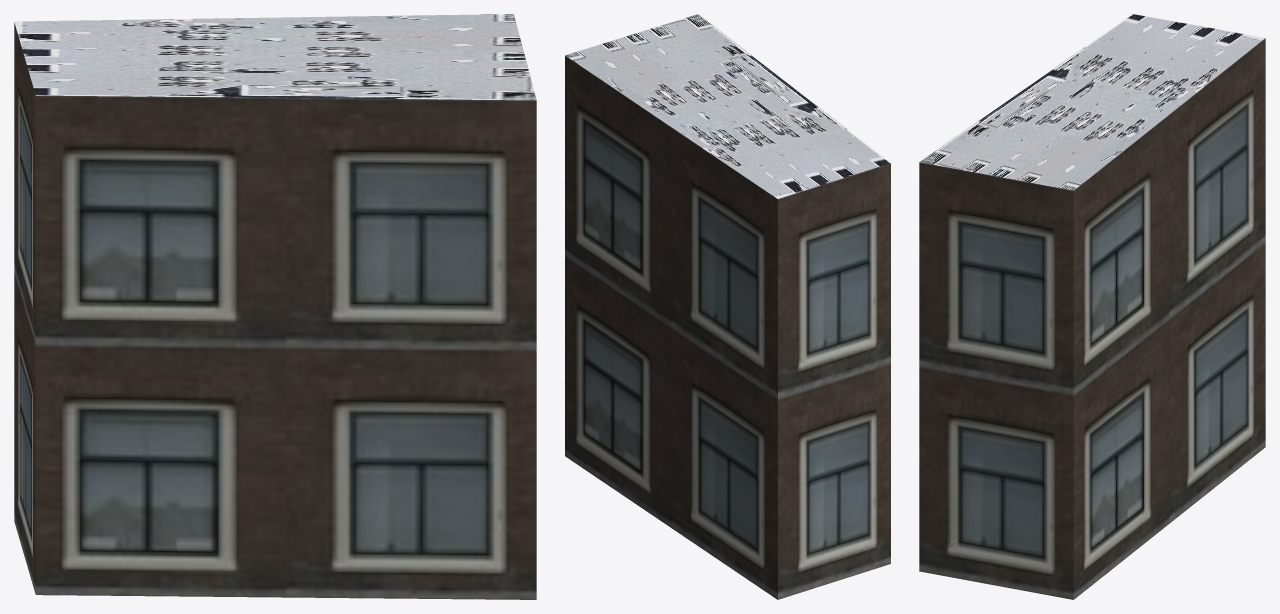
Rendered from ResTex__611.fbx.
3 views of the same model, side by side, from view 1: azimuth 30°, elevation 25°; view 2: azimuth 150°, elevation 25°; view 3: azimuth 270°, elevation 25° (orthographic). The views are drawn at different scales.
Parts seen in each view (by area): view 1: CityEngineMaterial_16_m, CityEngineMaterial_15_m; view 2: CityEngineMaterial_16_m, CityEngineMaterial_15_m; view 3: CityEngineMaterial_16_m, CityEngineMaterial_15_m.
Part boxes in pixels (<box>): CityEngineMaterial_16_m: <box>14,23,536,599</box>; CityEngineMaterial_15_m: <box>14,14,536,100</box>; CityEngineMaterial_16_m: <box>565,55,890,599</box>; CityEngineMaterial_15_m: <box>565,14,890,198</box>; CityEngineMaterial_16_m: <box>919,38,1265,599</box>; CityEngineMaterial_15_m: <box>919,14,1265,190</box>.
Bounding box in the file's own units: 5.56 × 6 × 4.61.
Materials: 2 (2 with a texture image).
